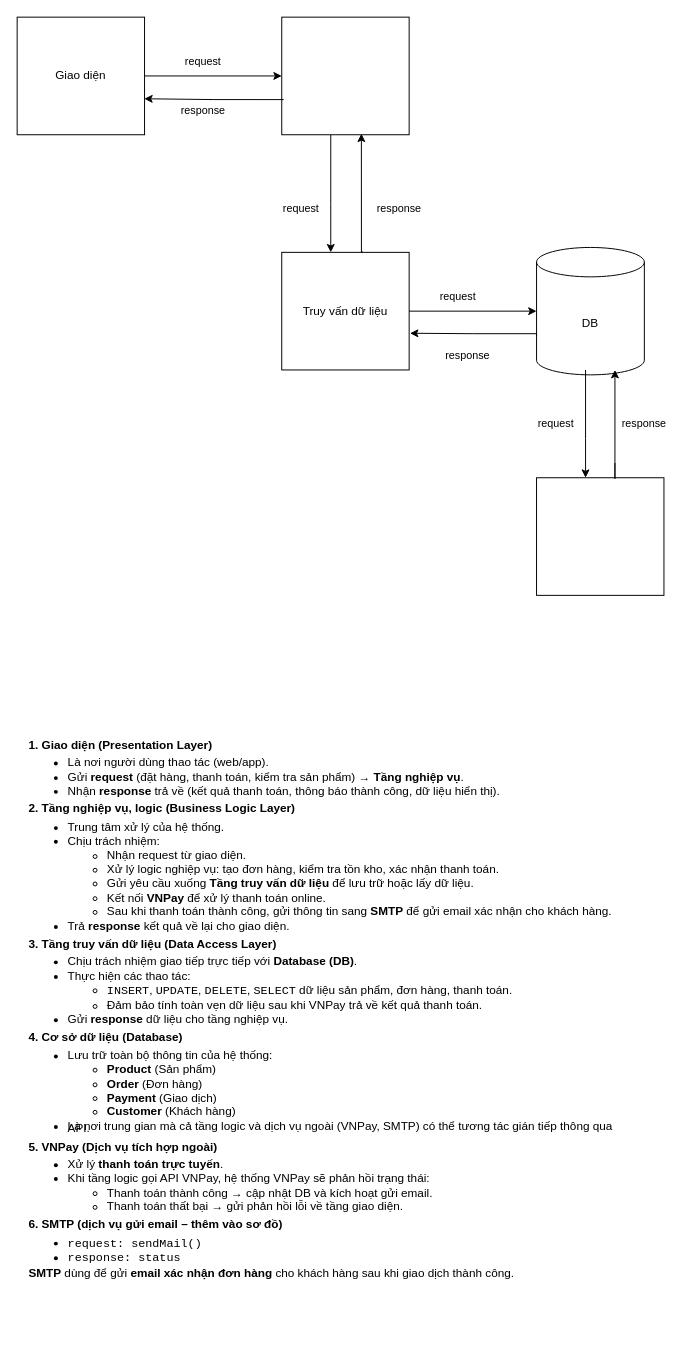
Image size: 691x1348. Some labels were removed from this diagram. The shapes that lost their labels are listed below. From the top down, each one's centre as x and y in pixels, then its label:
the point at 345,75: Tầng nghiệp vụ, logic
the point at 600,536: VNPay
